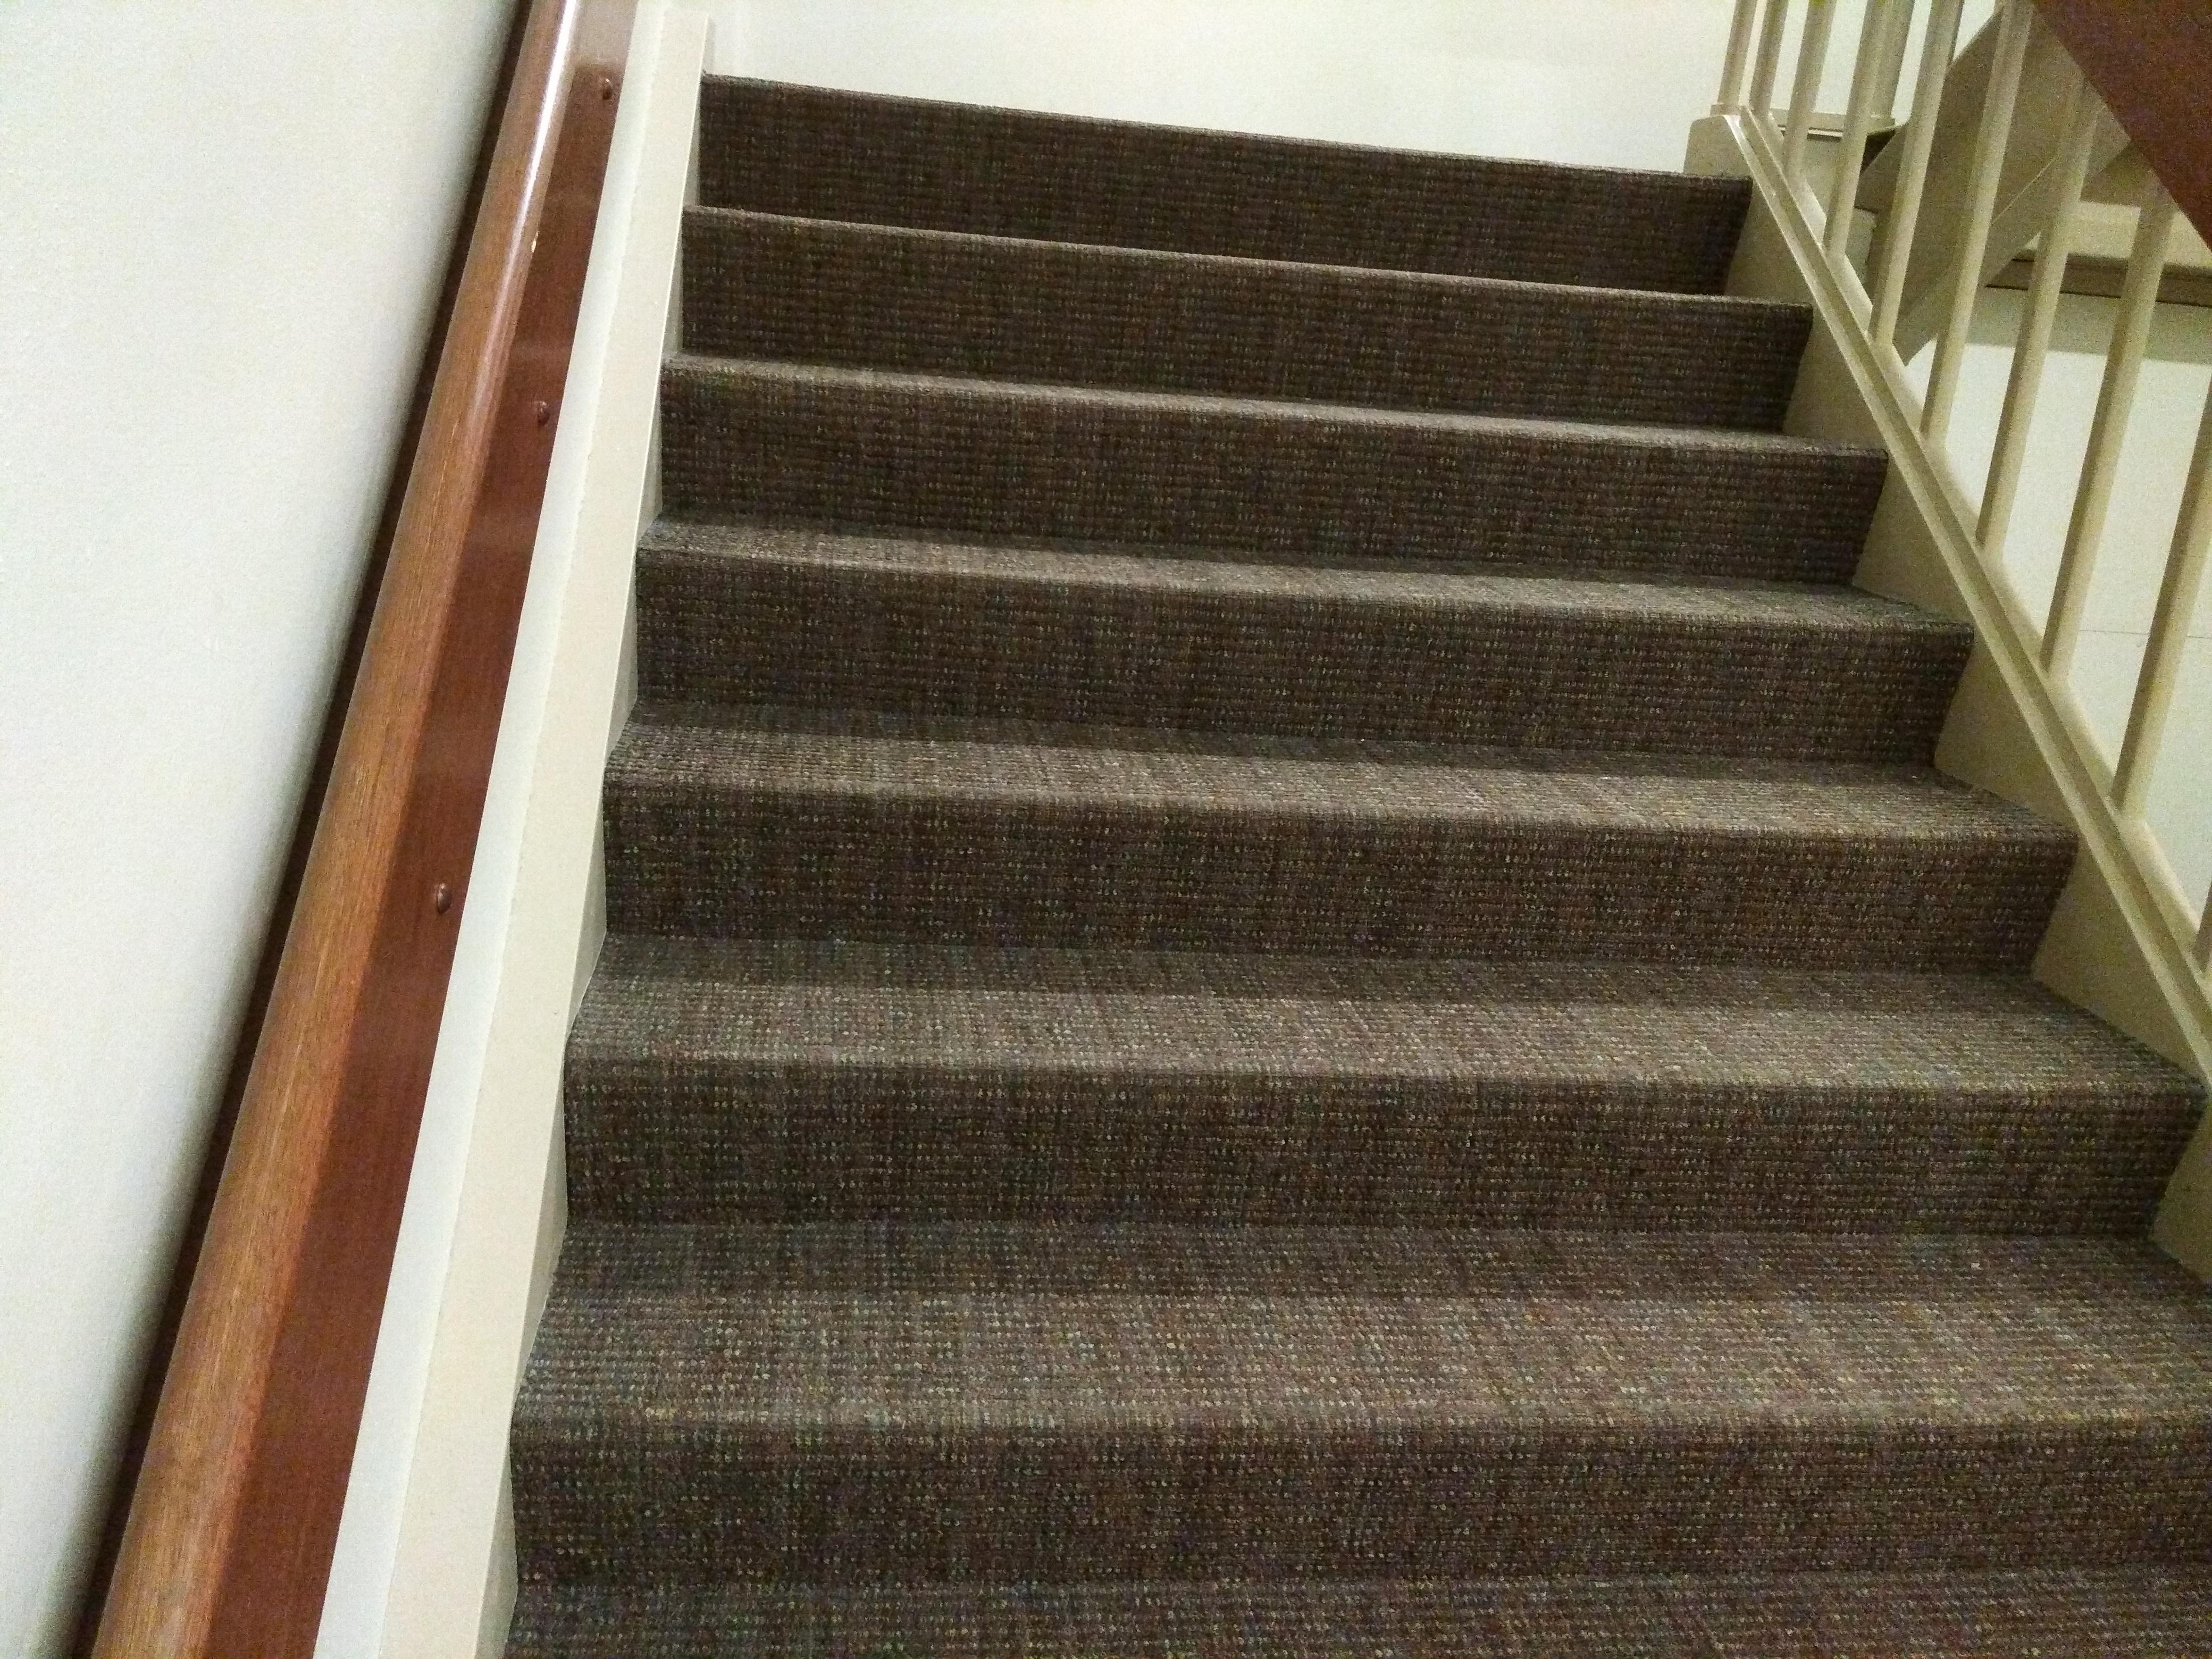stairs_up: (498, 44, 2212, 1612)
